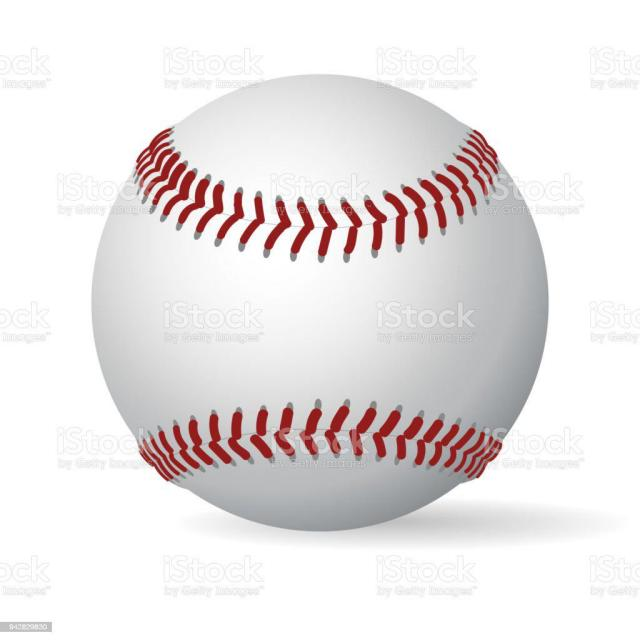baseball: (92, 69, 552, 530)
